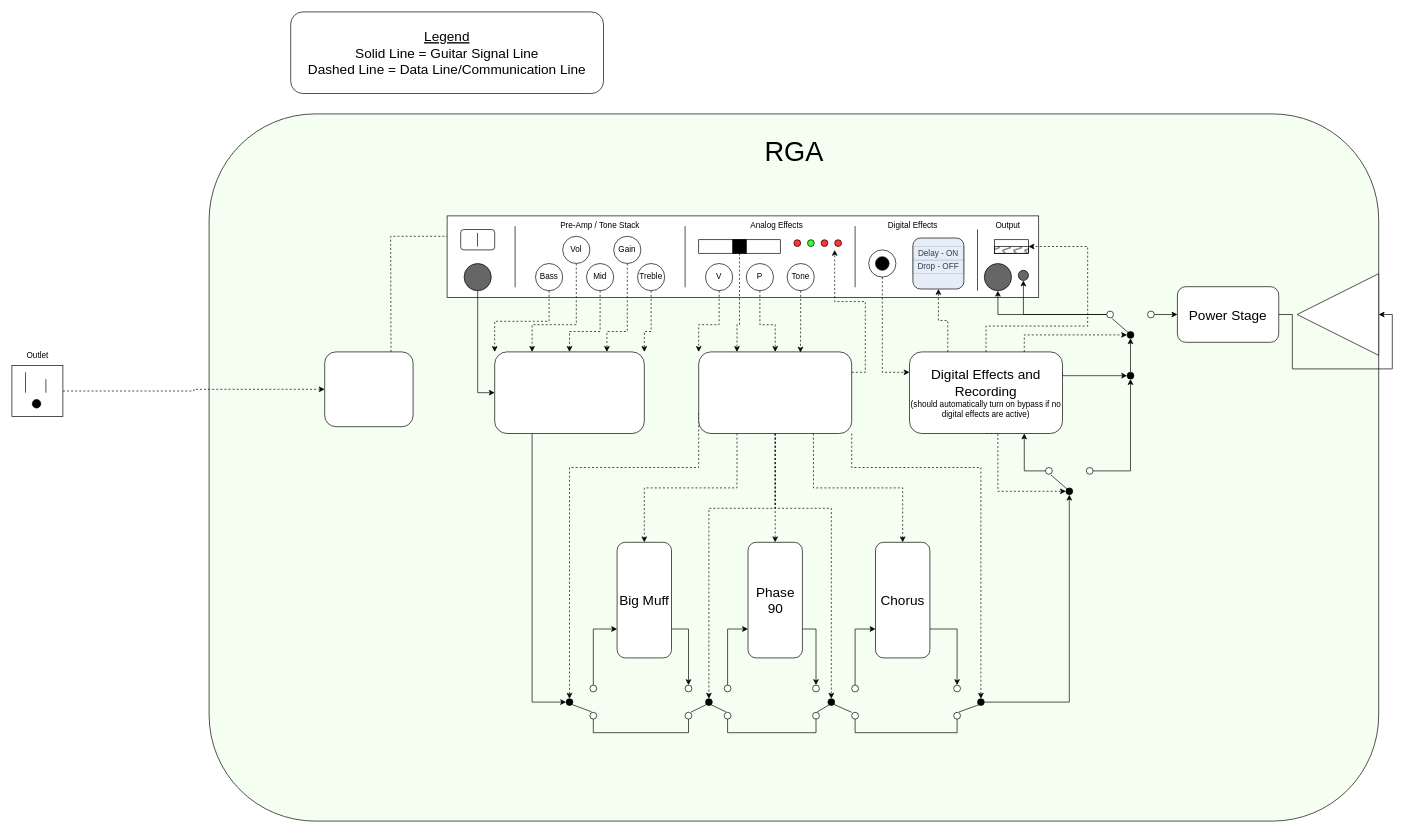
Some shapes in this 1410 by 833 pixel diagram are drawn without their labels. Here are the shapes that lost their labels. From the top down, the centre of each, then its label:
the point at 477,239: 0 I
the point at 1337,314: Driver
the point at 368,389: Power Board
the point at 569,392: Pre-Amp Stage and Tone Stack
the point at 775,392: Analog Controller
